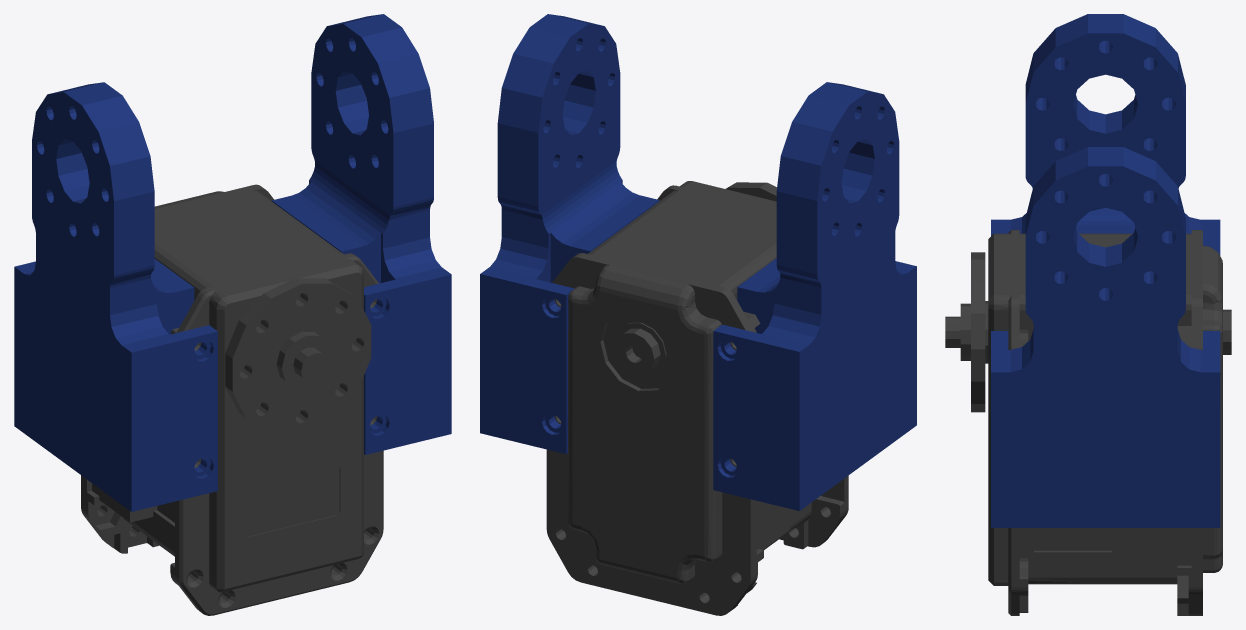
3 views of the same model, side by side, from view 1: azimuth 30°, elevation 25°; view 2: azimuth 150°, elevation 25°; view 3: azimuth 270°, elevation 25° (orthographic). The views are drawn at different scales.
Parts seen in each view (by area): view 1: Soportes.001, Motor.001; view 2: Soportes.001, Motor.001; view 3: Soportes.001, Motor.001.
Boxes of the visible parts, box(x1,y1,x2,y2) form: Soportes.001: box(14, 14, 451, 511); Motor.001: box(81, 184, 383, 615); Soportes.001: box(480, 14, 916, 510); Motor.001: box(546, 181, 848, 615); Soportes.001: box(991, 14, 1220, 527); Motor.001: box(945, 230, 1231, 615).
Bounding box in the file's own units: 0.063 × 0.05 × 0.0947.
